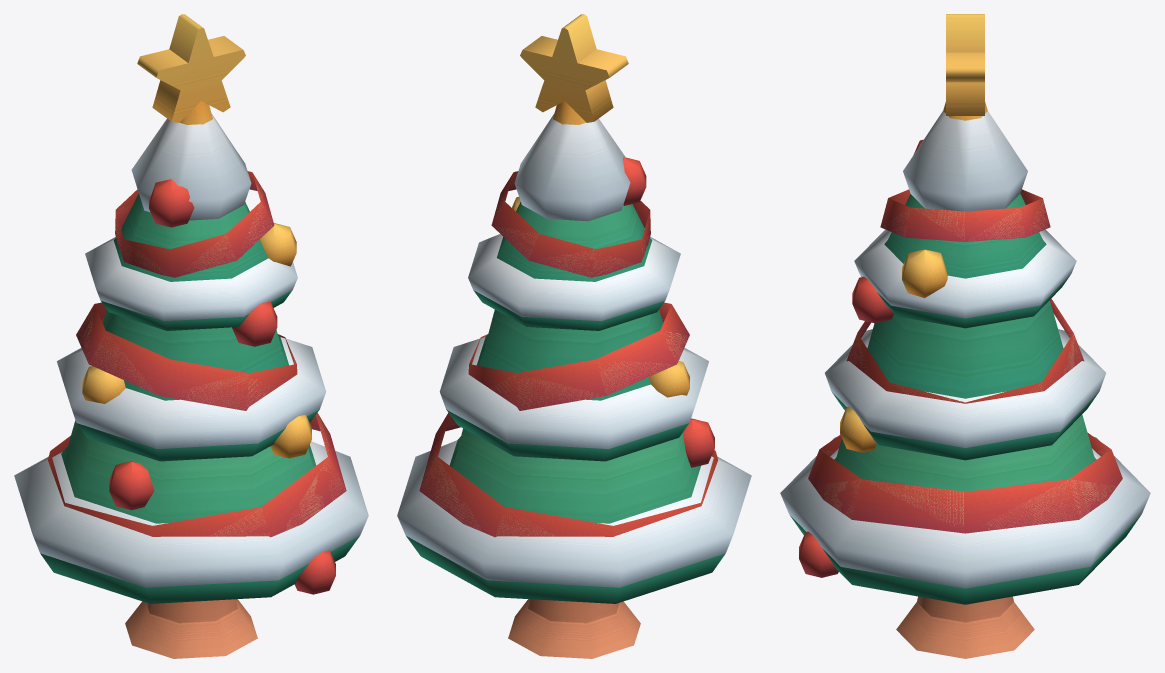
File: tree-decorated-snow.glb
The picture shows the model from 3 angles, left to right: view 1: azimuth 30°, elevation 25°; view 2: azimuth 150°, elevation 25°; view 3: azimuth 270°, elevation 25°; orthographic projection.
Parts seen in each view (by area): view 1: tree-decorated-snow; view 2: tree-decorated-snow; view 3: tree-decorated-snow.
Boxes of the visible parts, left/top/right/bottom form: tree-decorated-snow: left=14, top=14, right=368, bottom=658; tree-decorated-snow: left=397, top=14, right=751, bottom=658; tree-decorated-snow: left=780, top=14, right=1150, bottom=658.
Bounding box in the file's own units: 1.25 × 2.29 × 1.25.
1 material, 1 textured.
